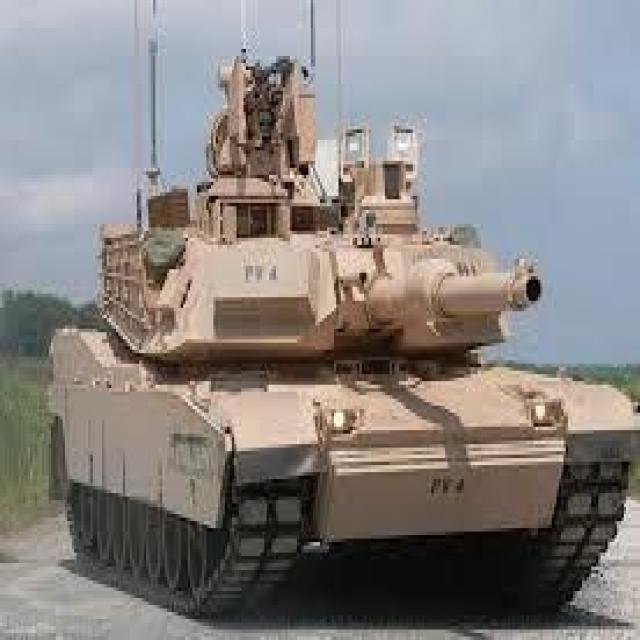MIL_MBT: (49, 52, 635, 616)
